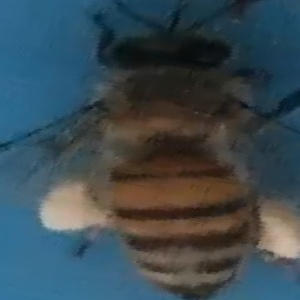bee: (33, 3, 298, 298)
